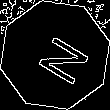N_NW: (23, 24, 87, 86)
